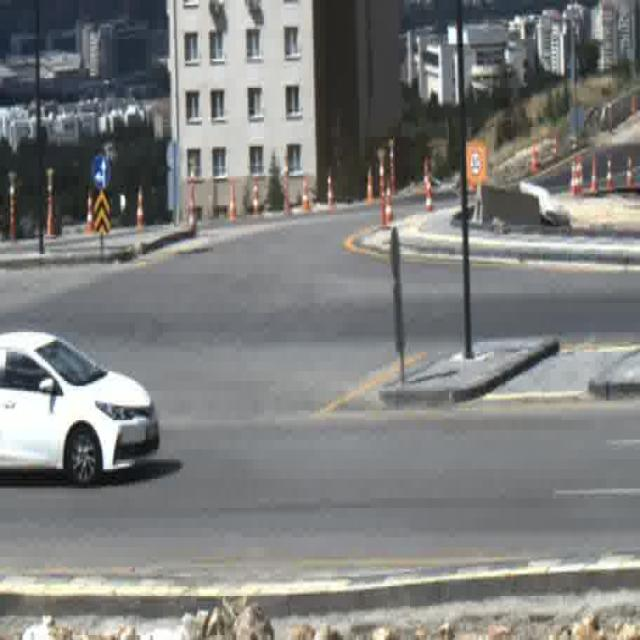Car: (0, 328, 162, 482)
